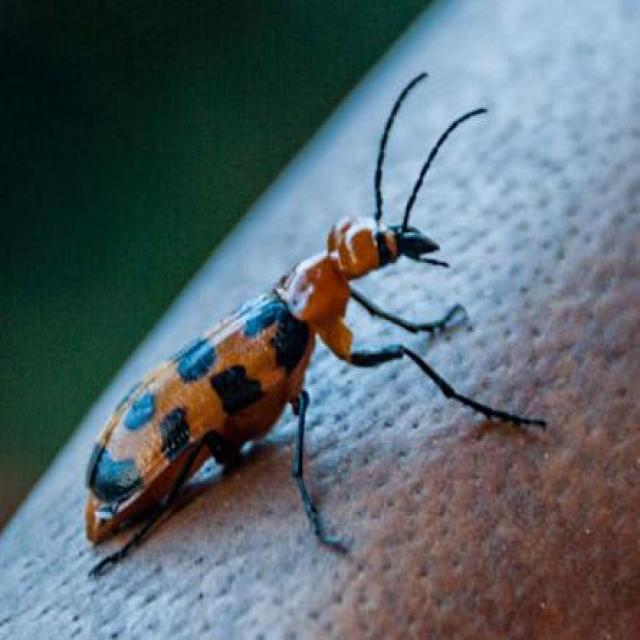BlisterBeetle-Adult-: (74, 69, 530, 579)
